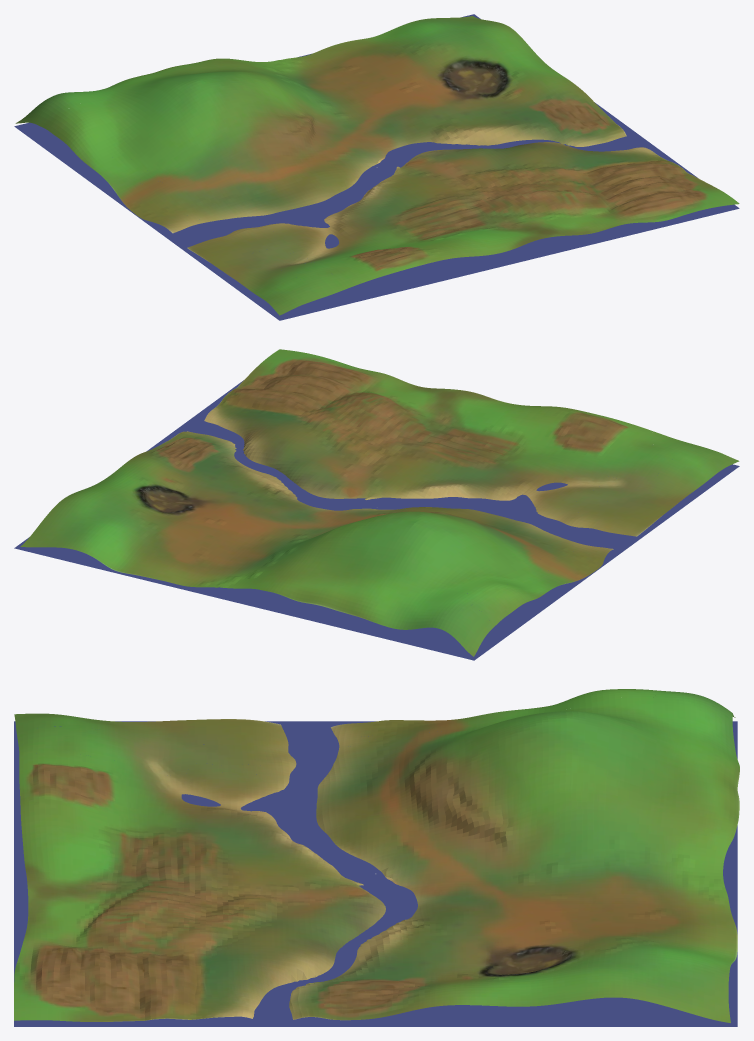
The model's file is village_landscape3.glb.
3 views of the same model, one above another, from view 1: azimuth 30°, elevation 25°; view 2: azimuth 150°, elevation 25°; view 3: azimuth 270°, elevation 25° (orthographic). The views are drawn at different scales.
Parts seen in each view (by area): view 1: ground, water_base; view 2: ground, water_base; view 3: ground, water_base.
Boxes of the visible parts, box(x1,y1,x2,y2) form: ground: box(15, 16, 739, 315); water_base: box(14, 14, 739, 320); ground: box(20, 349, 739, 656); water_base: box(14, 380, 739, 660); ground: box(14, 689, 739, 1022); water_base: box(14, 721, 737, 1026).
Size of the model in its own units: 500 by 73.27 by 502.
2 materials, 1 textured.
